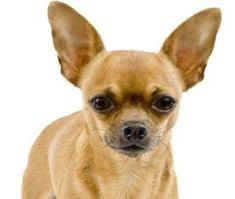chihuahua: (18, 1, 226, 170)
